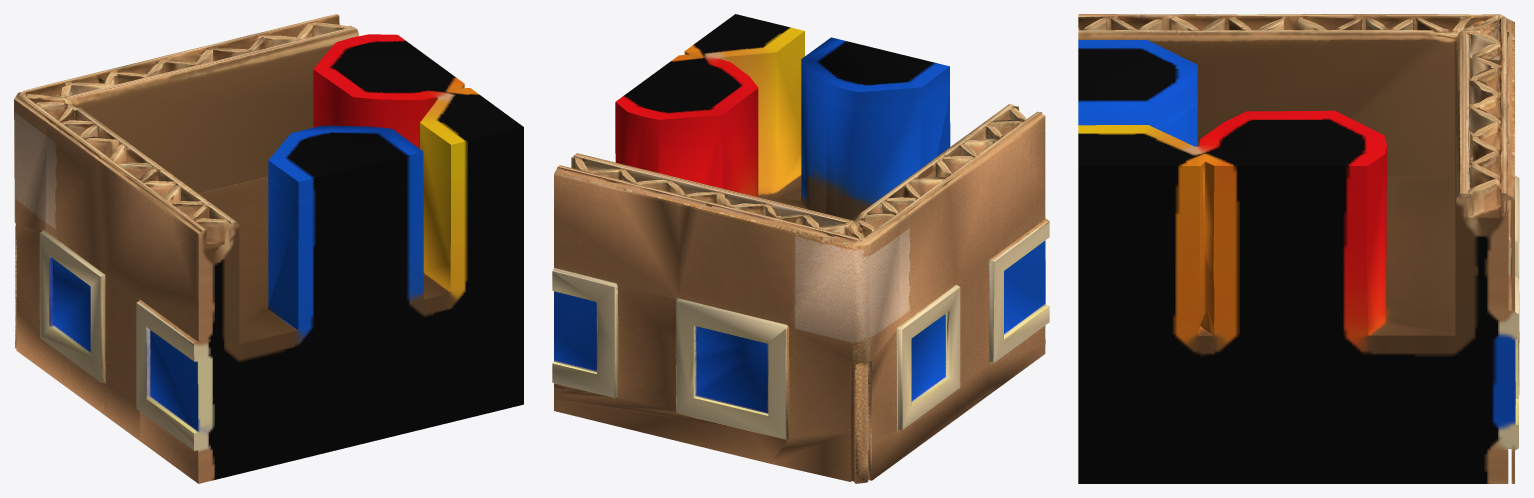
File: 7-upper-walls-back-left.fbx
3 renders of one model, left to right at view 1: azimuth 30°, elevation 25°; view 2: azimuth 150°, elevation 25°; view 3: azimuth 270°, elevation 25°, orthographic. The views are drawn at different scales.
Parts seen in each view (by area): view 1: upper-walls-back-left; view 2: upper-walls-back-left; view 3: upper-walls-back-left.
Part boxes in pixels (x1,y1,x2,y2): upper-walls-back-left: [14, 14, 523, 483]; upper-walls-back-left: [552, 14, 1049, 483]; upper-walls-back-left: [1078, 14, 1519, 483].
Bounding box in the file's own units: 5067 × 4070 × 5116.
1 material, 1 textured.
